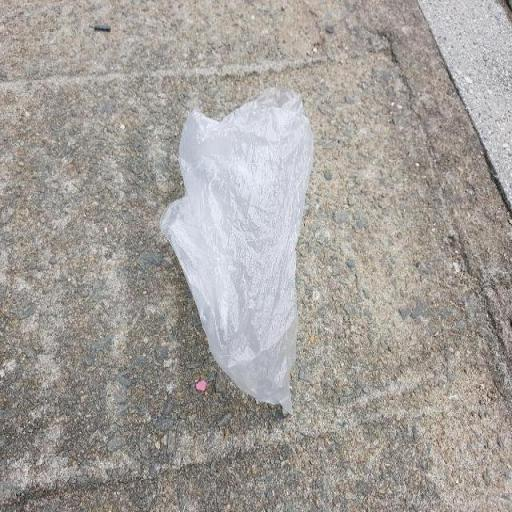plastic-bag: (158, 84, 316, 416)
